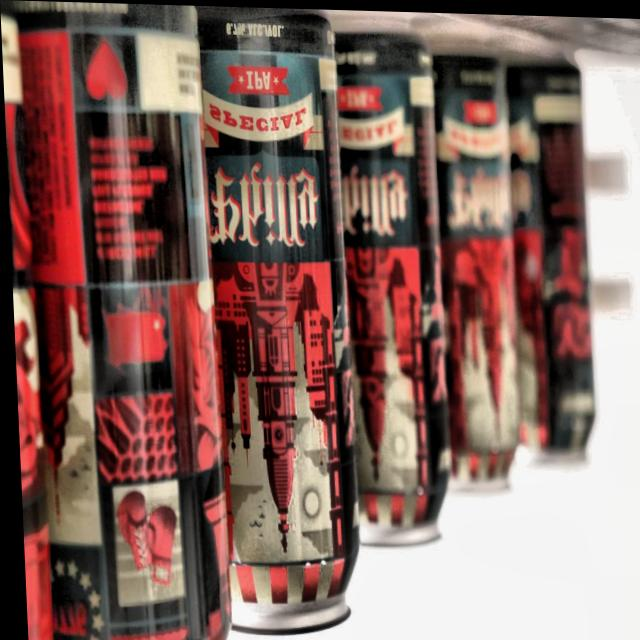can: (0, 0, 230, 640), (197, 5, 359, 640), (330, 30, 454, 554), (419, 45, 524, 503), (500, 55, 603, 472)
